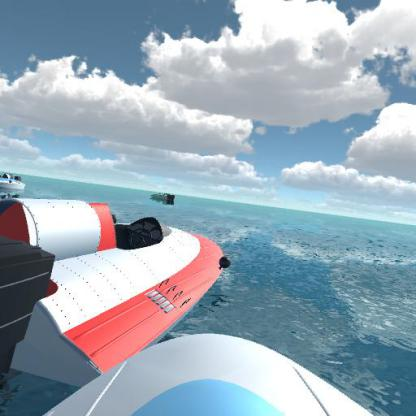usv0: (146, 184, 182, 207)
usv1: (0, 162, 35, 194)
usv3: (0, 182, 234, 386)
